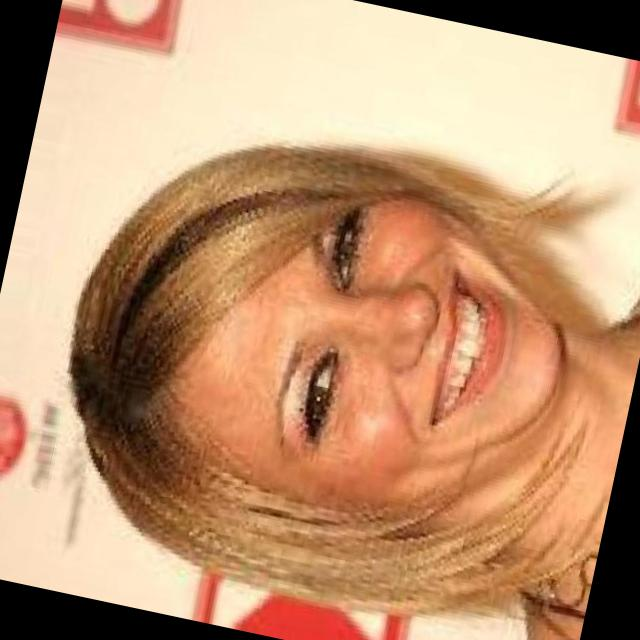bareface: (154, 114, 572, 546)
